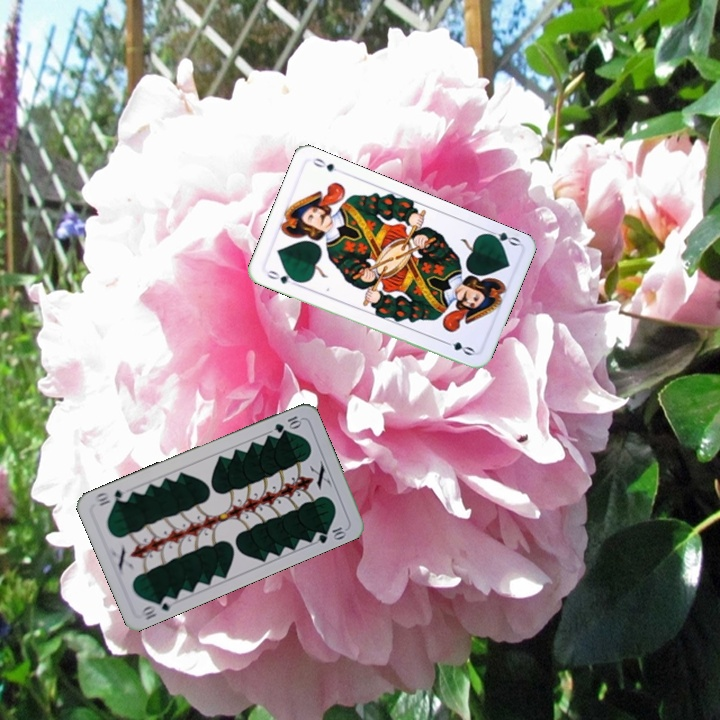G10: (137, 592, 174, 623), (270, 412, 304, 435)
GO: (481, 225, 522, 249), (262, 266, 301, 289)
